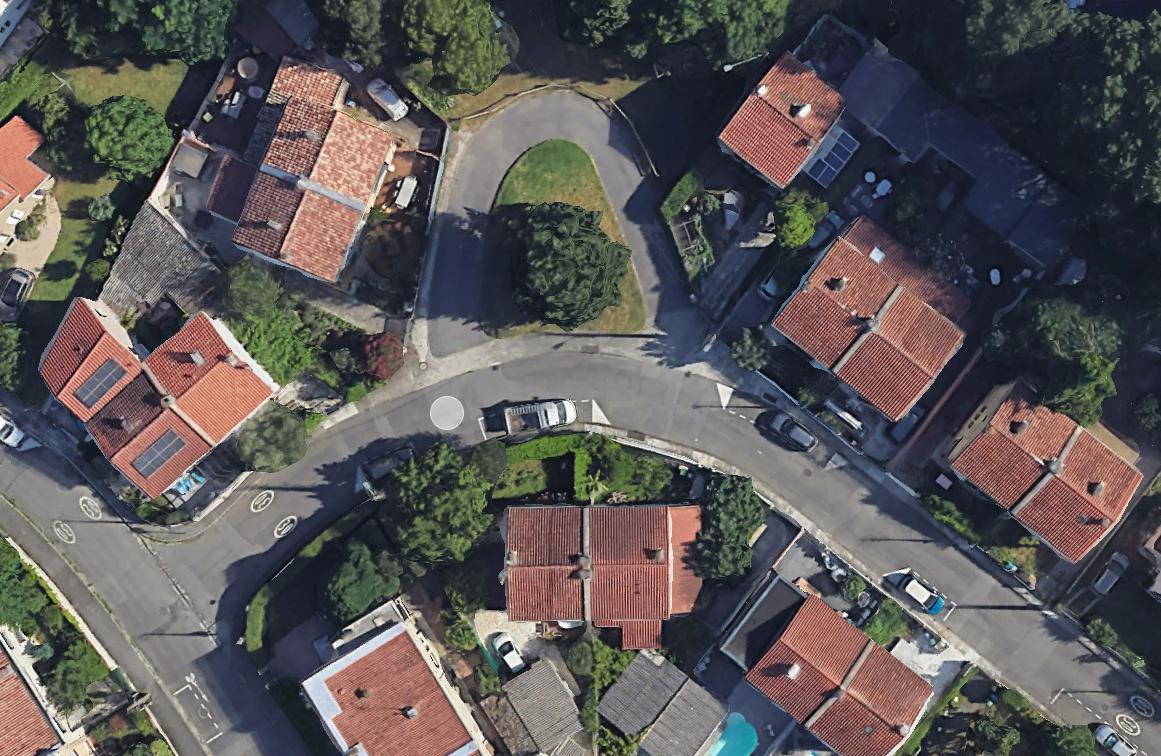maison: (13, 237, 280, 505), (765, 208, 987, 428), (210, 53, 415, 289), (937, 370, 1150, 570), (742, 592, 939, 756), (498, 506, 701, 648), (294, 613, 492, 756), (711, 49, 854, 196), (0, 647, 57, 755), (0, 116, 49, 215)
